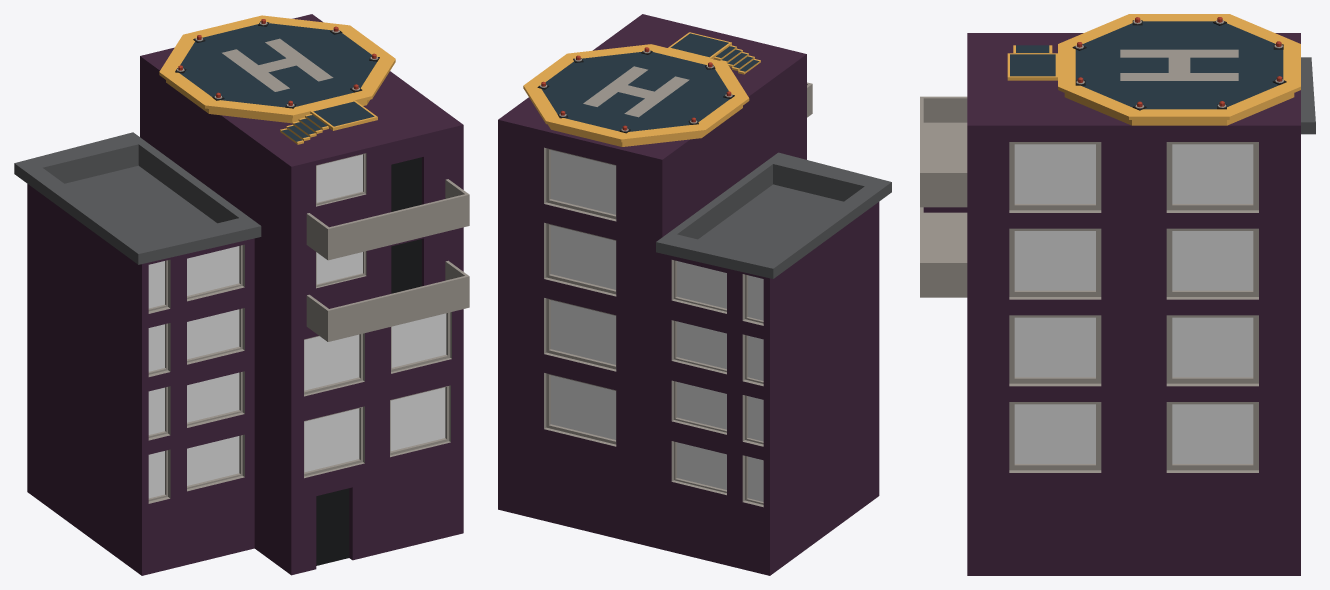
Rendered from SM_House_78_A.gltf.
3 renders of one model, left to right at view 1: azimuth 30°, elevation 25°; view 2: azimuth 150°, elevation 25°; view 3: azimuth 270°, elevation 25°, orthographic. The views are drawn at different scales.
Visible parts, largest first — view 1: SM_House_78_A; view 2: SM_House_78_A; view 3: SM_House_78_A.
Boxes of the visible parts, left/top/right/bottom form: SM_House_78_A: left=14, top=14, right=469, bottom=575; SM_House_78_A: left=498, top=14, right=891, bottom=575; SM_House_78_A: left=920, top=14, right=1315, bottom=575.
Bounding box in the file's own units: 3.89 × 5.29 × 4.05.
